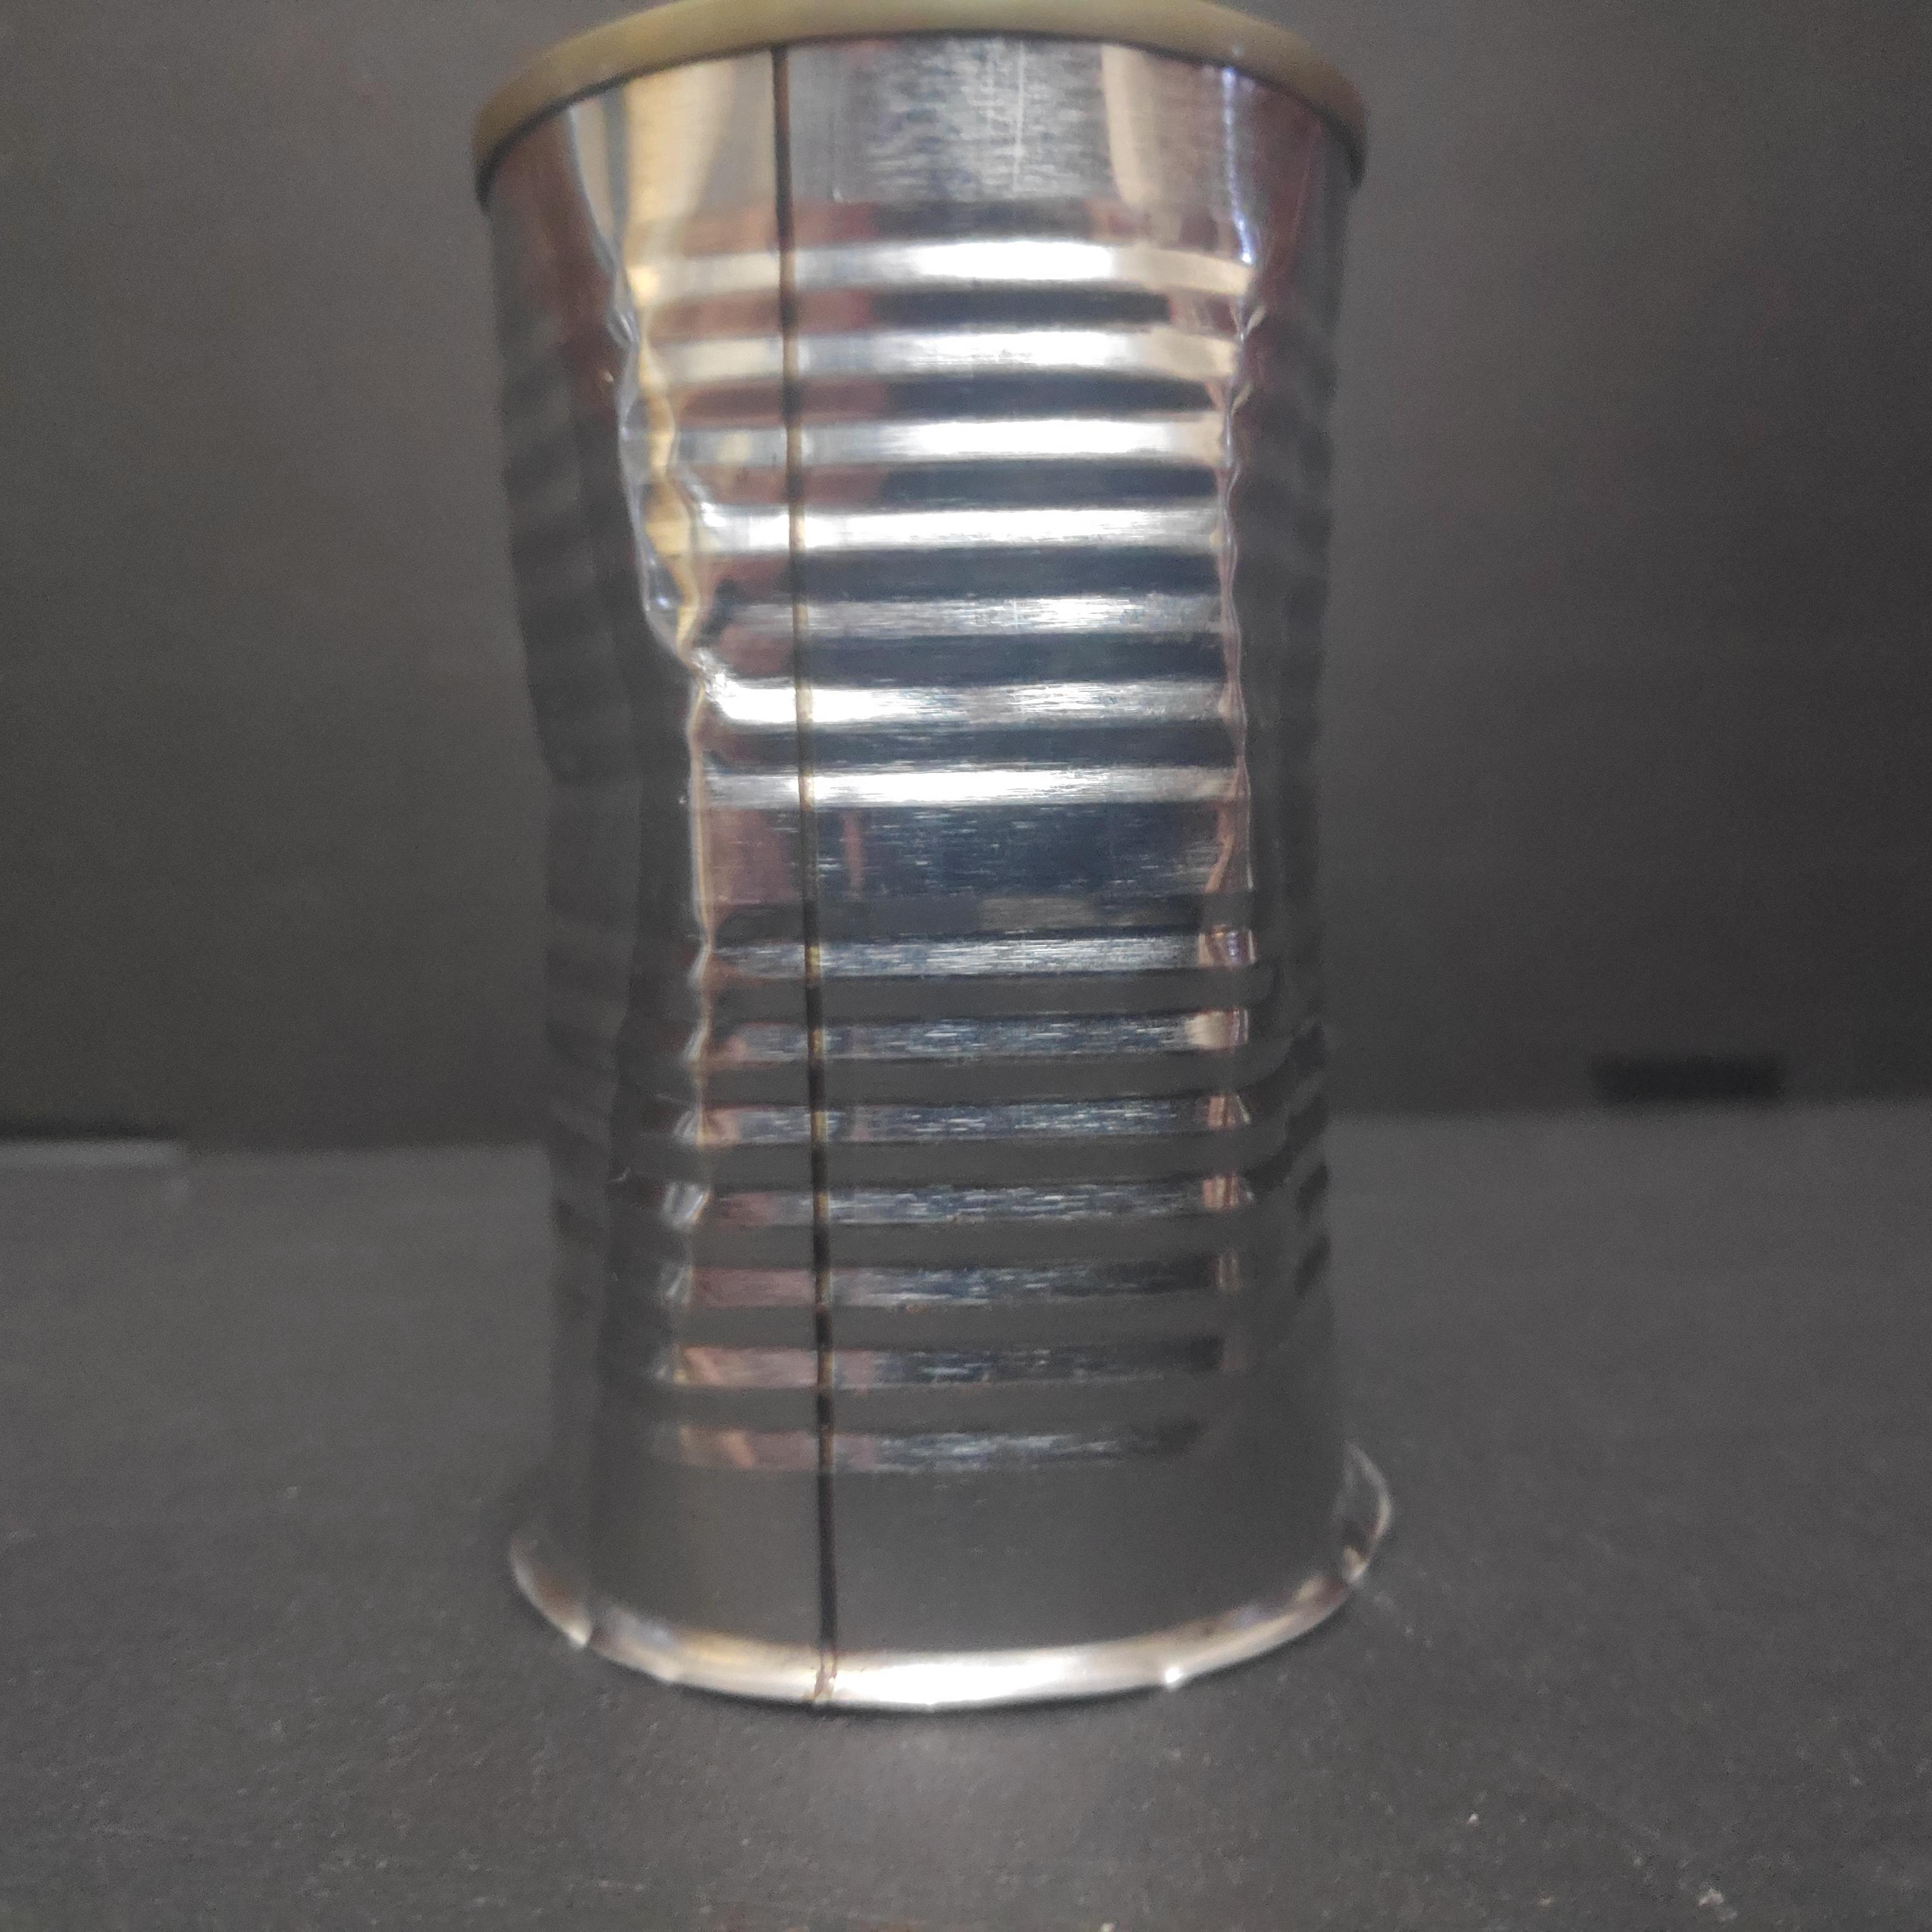Dented: (444, 0, 1403, 1721)
